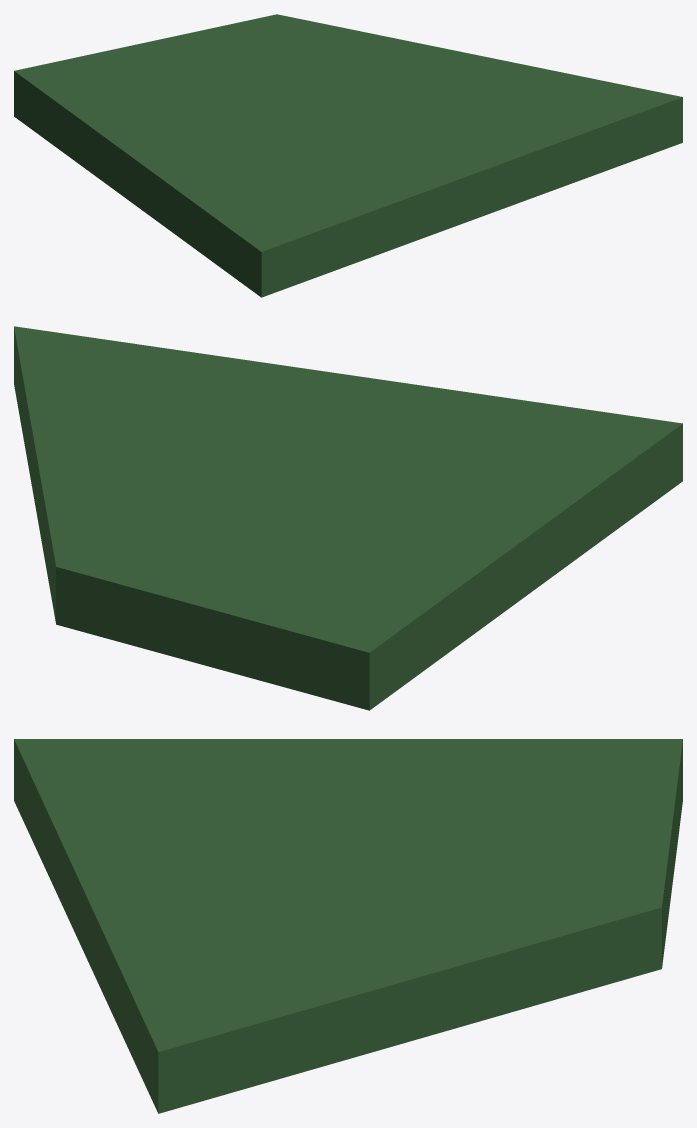
Rendered from x_proval_00_179_1_rmstrd.fbx.
The picture shows the model from 3 angles, top to bottom: view 1: azimuth 30°, elevation 25°; view 2: azimuth 150°, elevation 25°; view 3: azimuth 270°, elevation 25°; orthographic projection. The views are drawn at different scales.
Visible parts, largest first — view 1: x_proval_00_179_1_rmstrd1; view 2: x_proval_00_179_1_rmstrd1; view 3: x_proval_00_179_1_rmstrd1.
Part boxes in pixels (bbox=[...]): x_proval_00_179_1_rmstrd1: bbox=[14, 14, 682, 297]; x_proval_00_179_1_rmstrd1: bbox=[14, 326, 682, 710]; x_proval_00_179_1_rmstrd1: bbox=[14, 739, 682, 1113].
Size of the model in its own units: 2.18 by 0.2 by 1.97.
